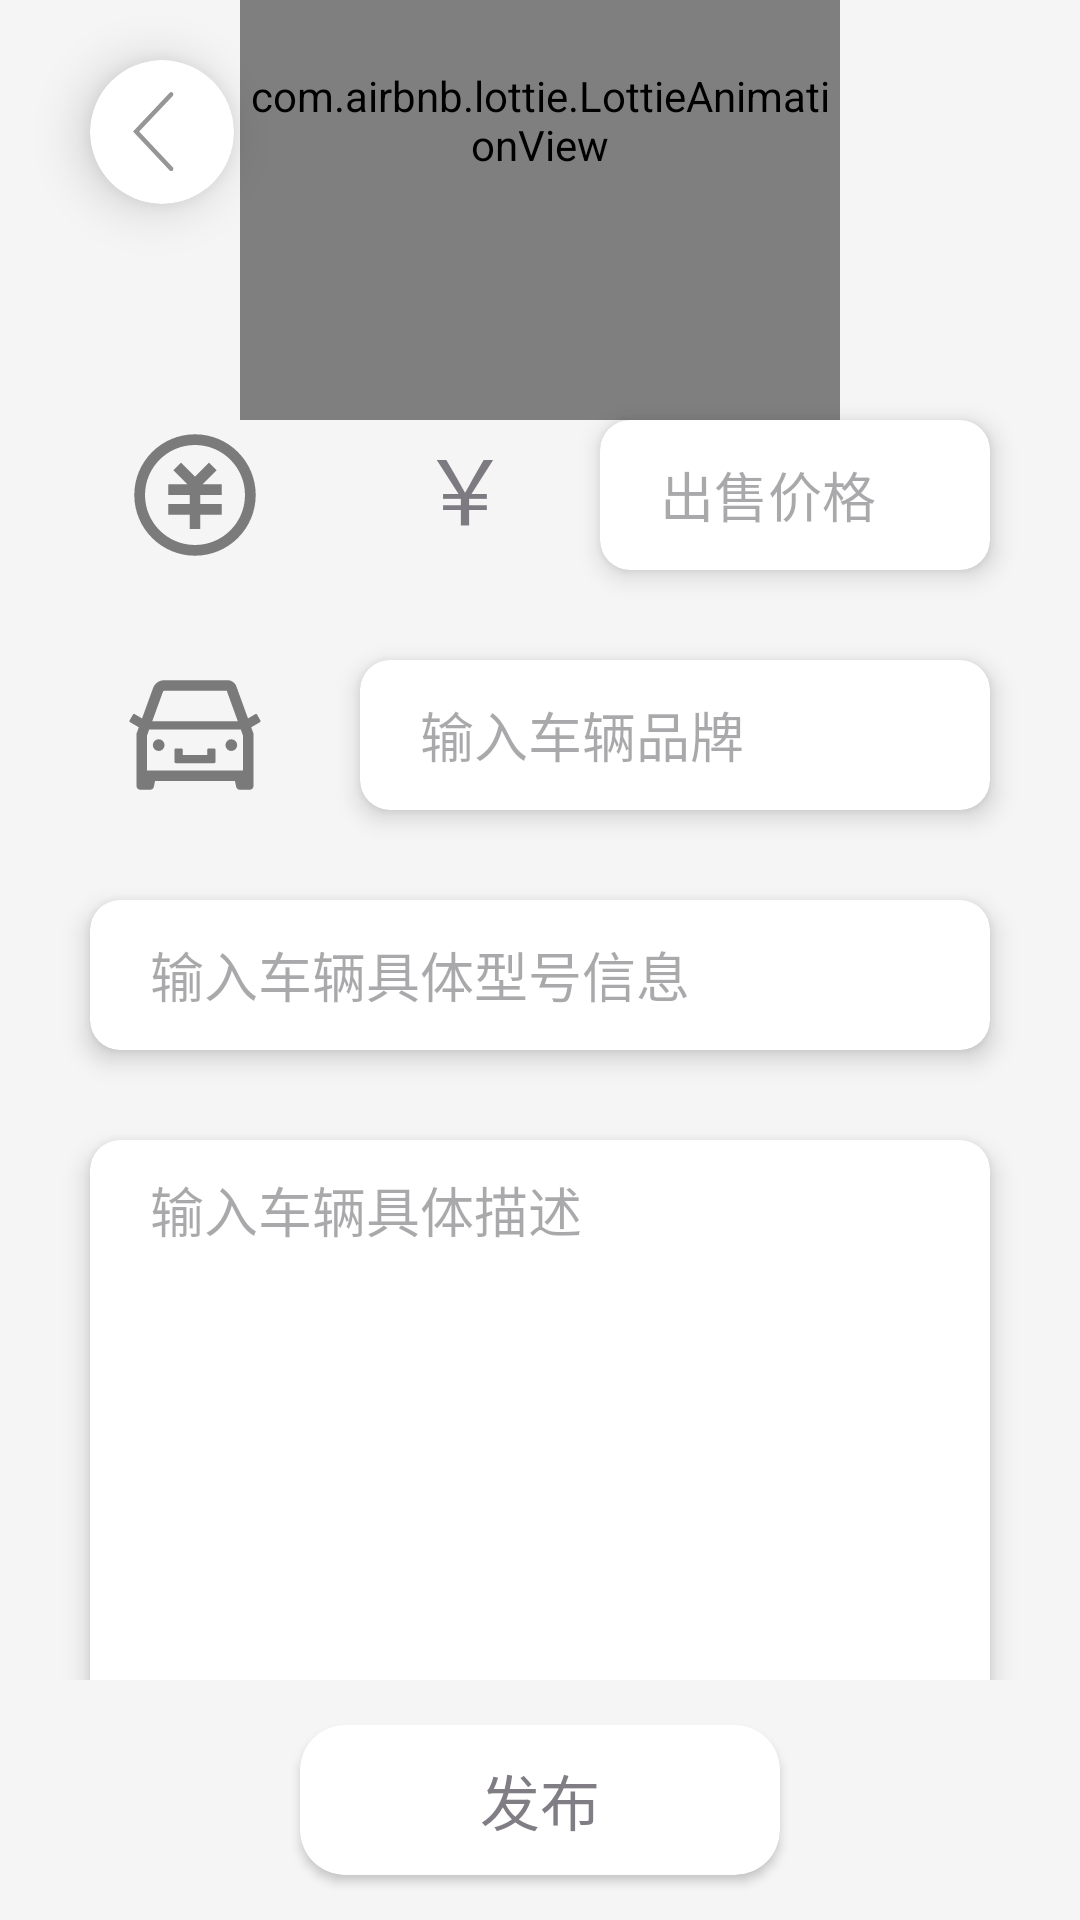

Screen size 1080 × 1920. Icon name, then its center in pixels as (x=x, y=y):
car: (x=195, y=735)
money: (x=195, y=495)
